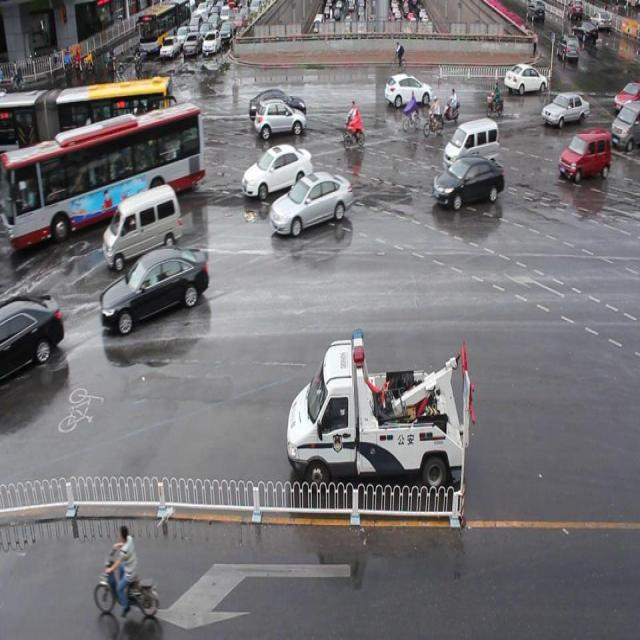bus: (286, 326, 473, 495)
car: (100, 244, 208, 331), (1, 290, 66, 382), (269, 172, 352, 230), (241, 144, 312, 197), (433, 156, 503, 206), (556, 129, 609, 179), (249, 88, 306, 123), (254, 99, 306, 136), (384, 72, 431, 109), (540, 91, 588, 127), (502, 60, 545, 92)
truck: (103, 182, 183, 267), (441, 118, 499, 174)
van: (1, 104, 204, 246), (1, 77, 172, 174)
